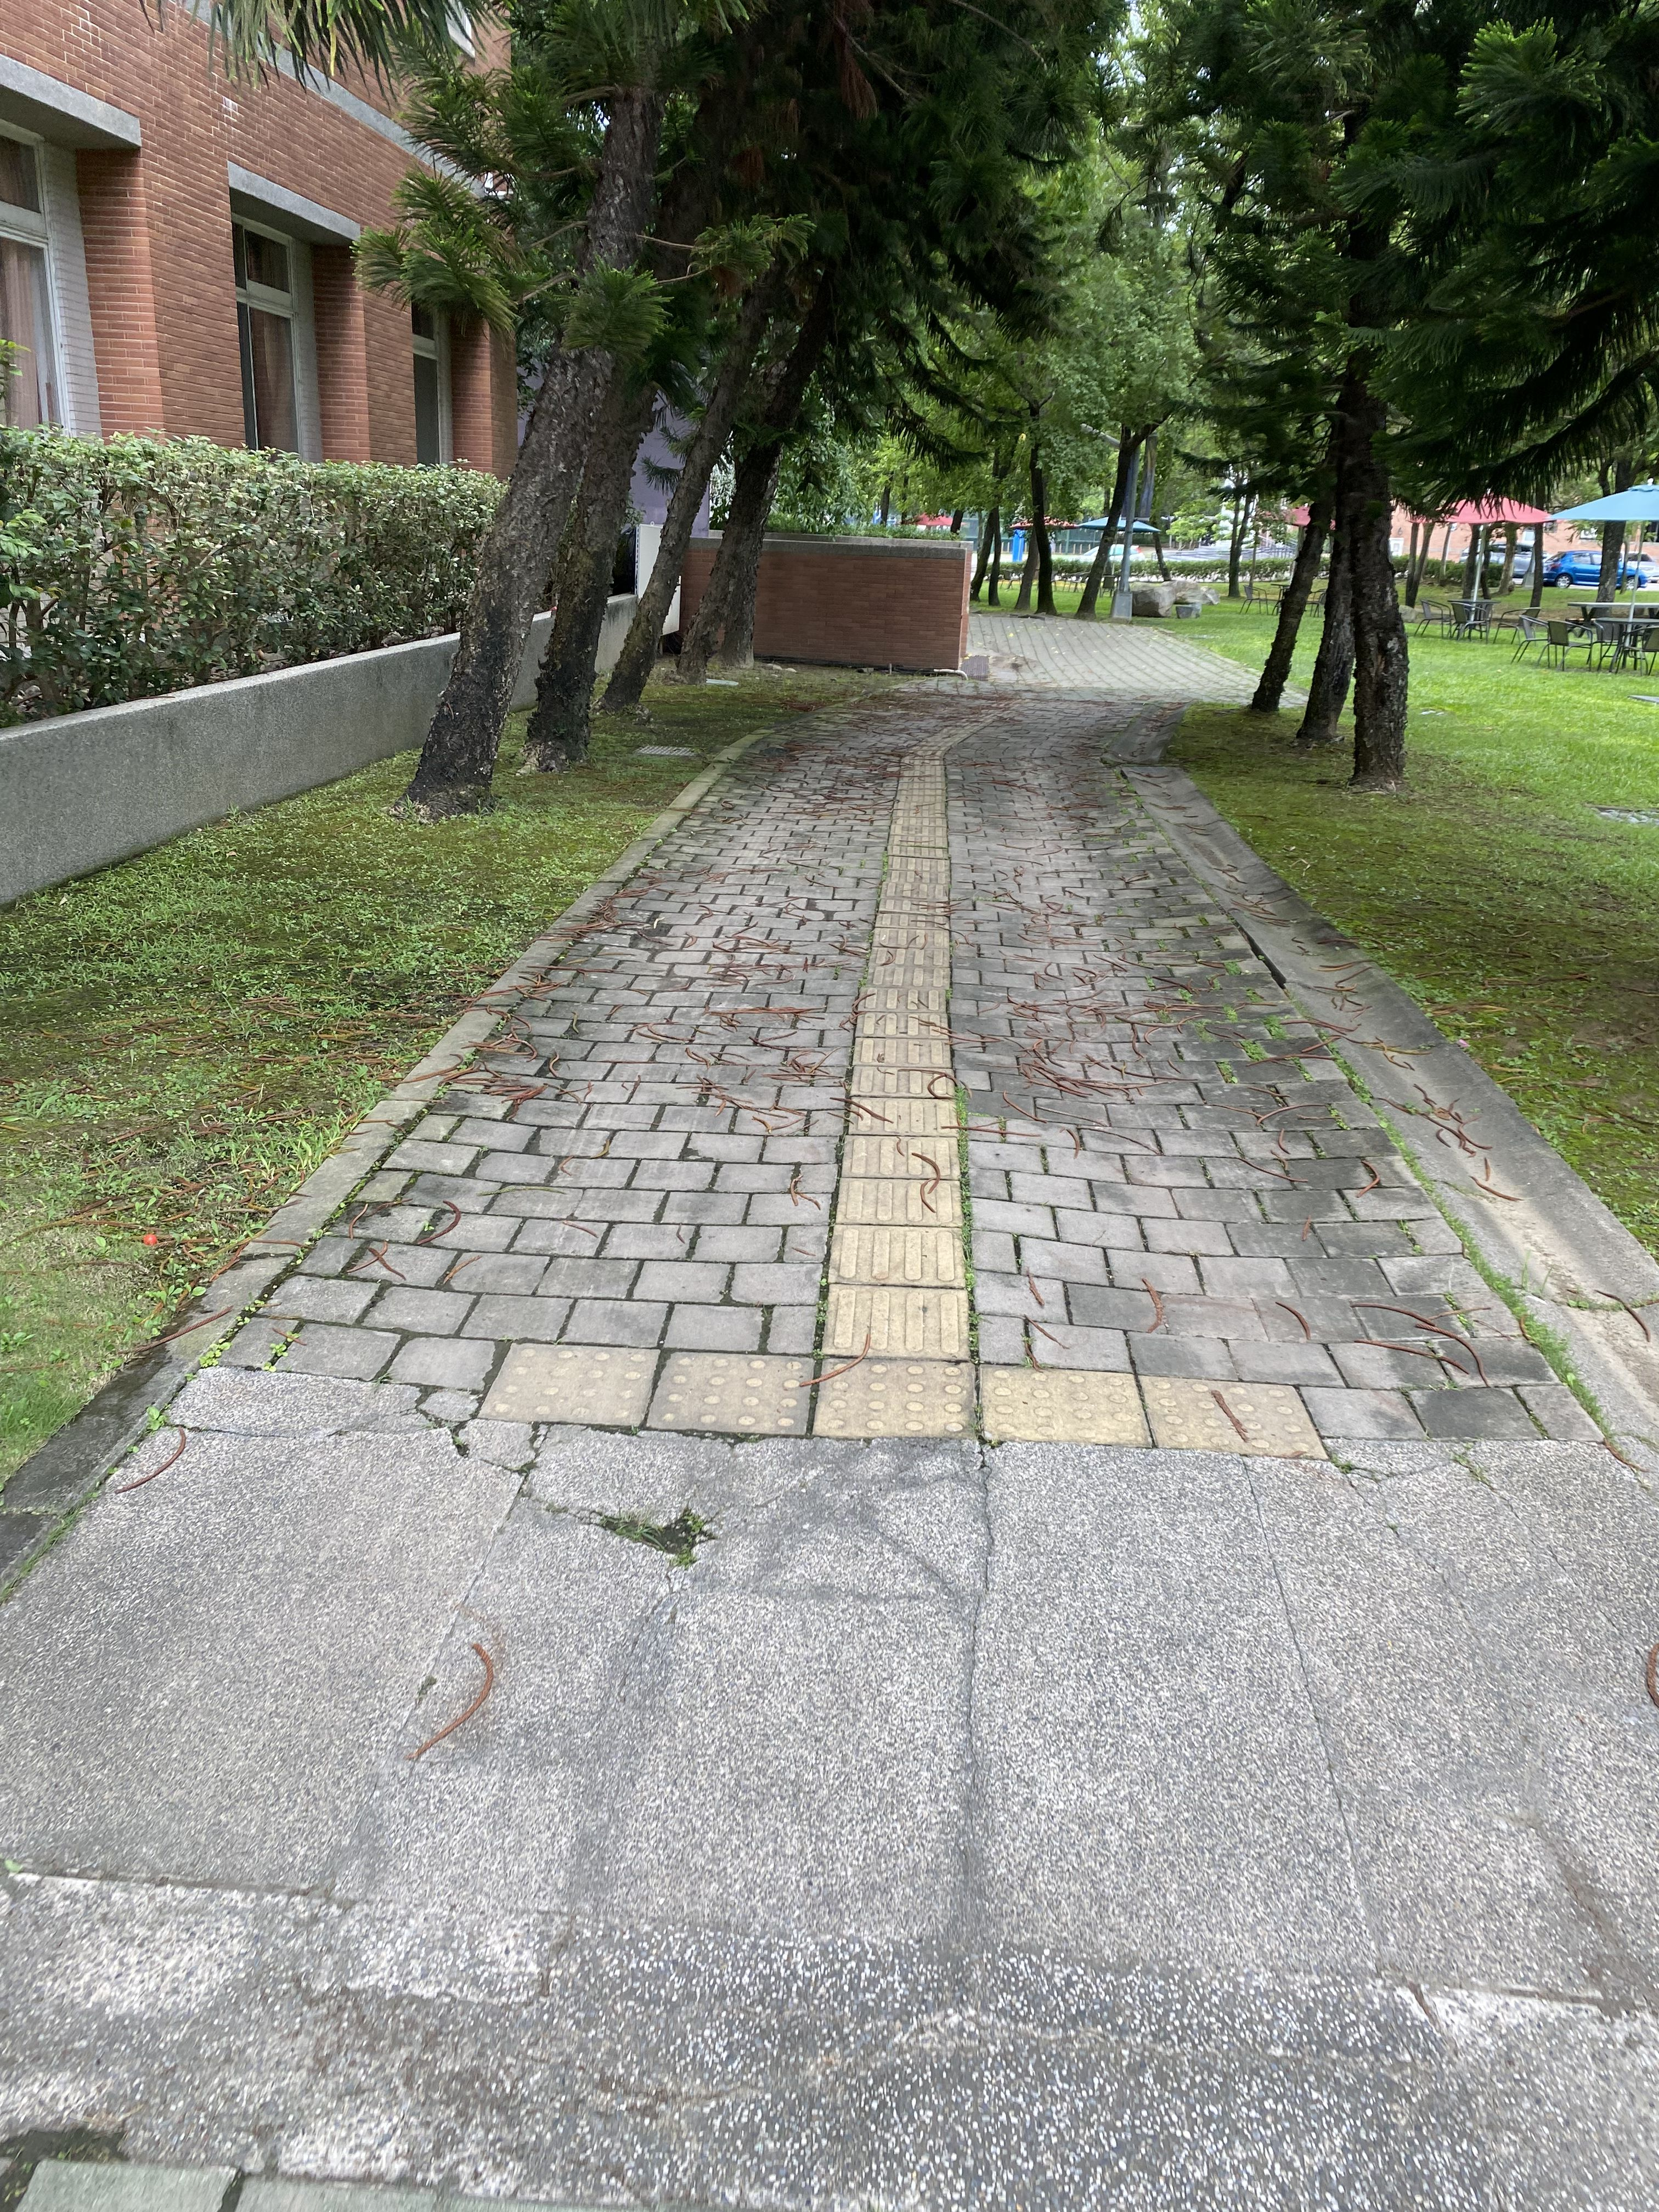sidewalk: (173, 437, 1659, 2212)
